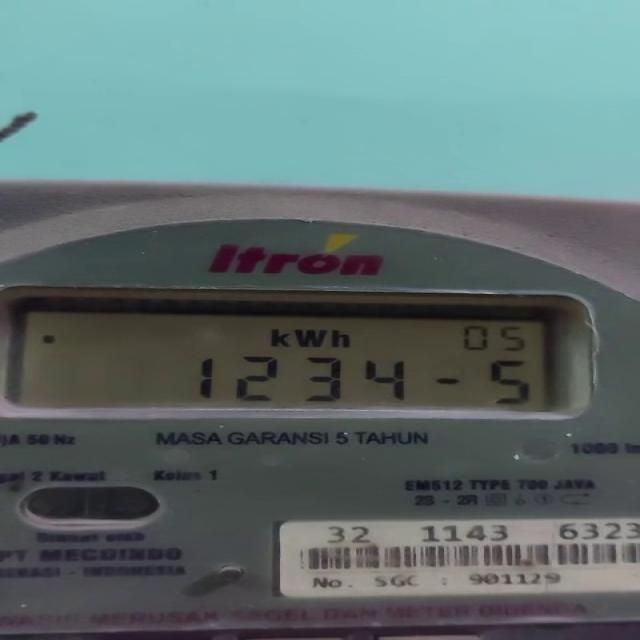LCD: (6, 284, 602, 424)
